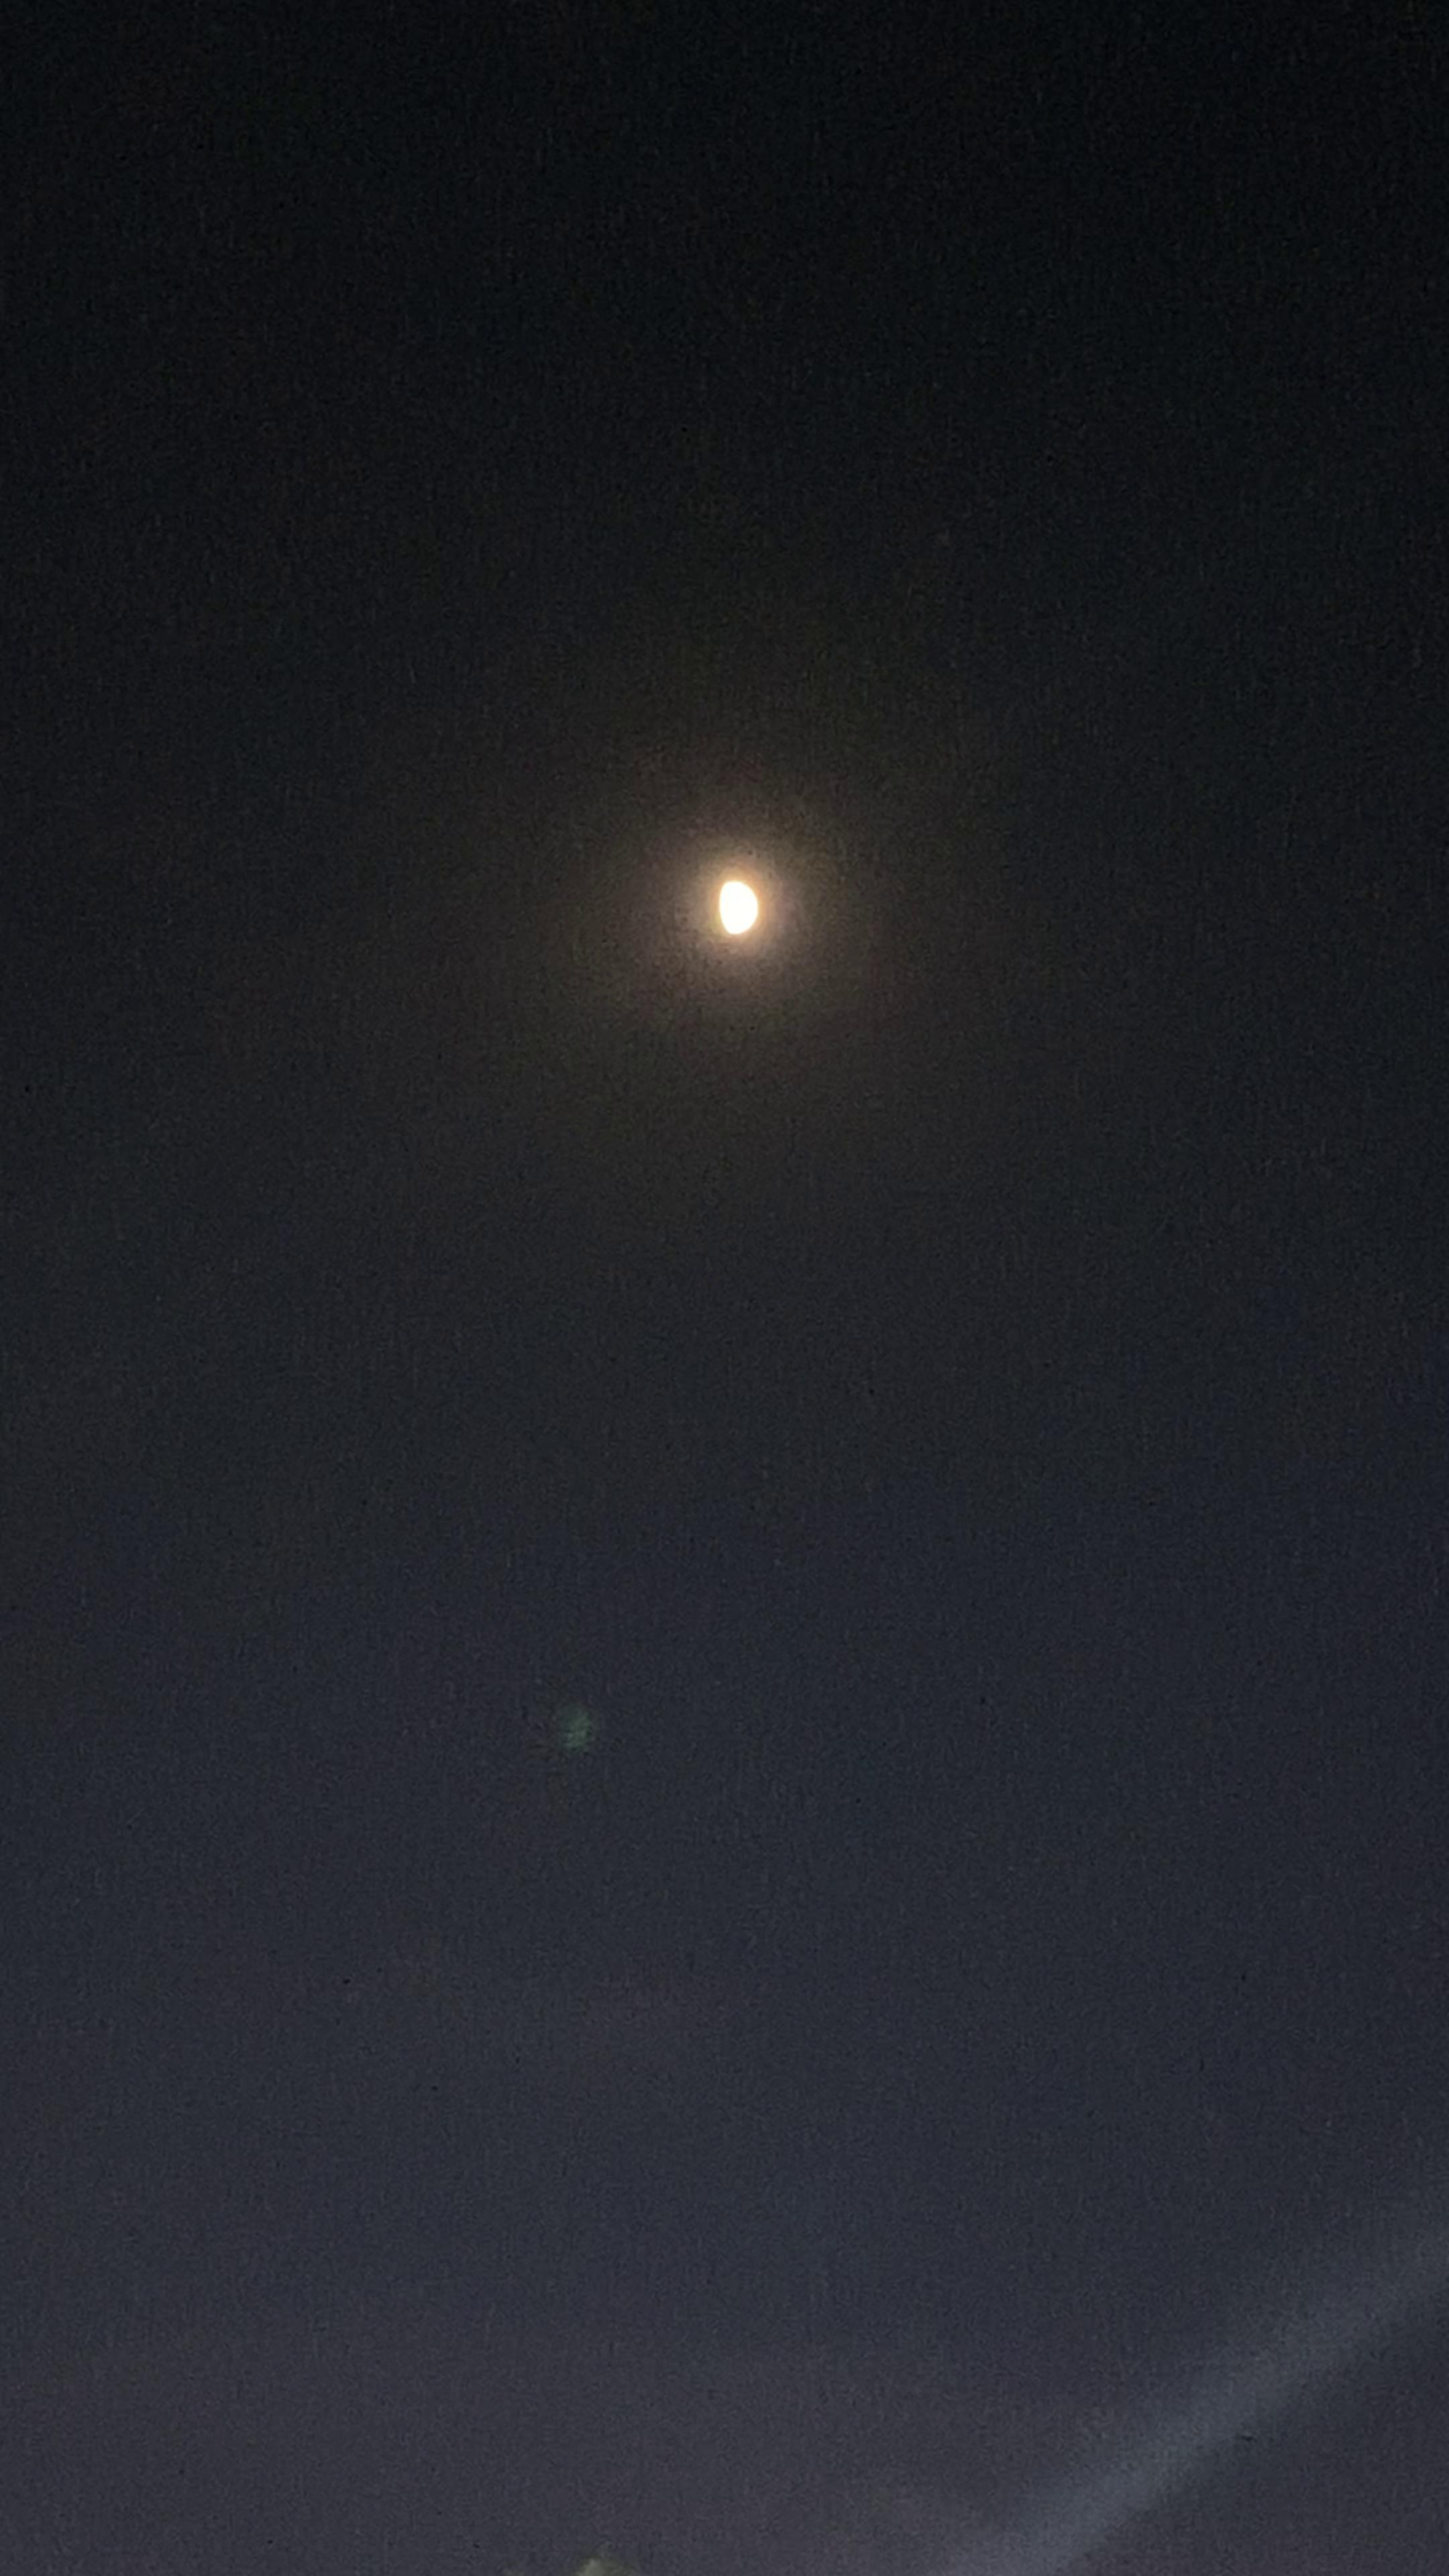moon: (692, 853, 791, 970)
